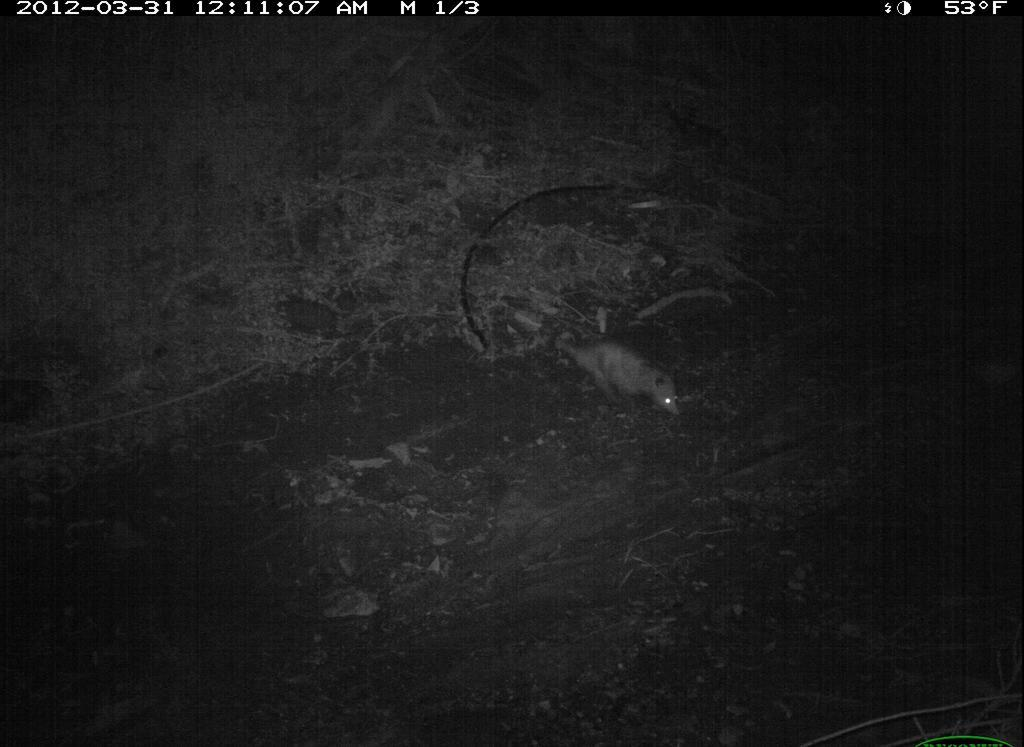opossum: (541, 323, 688, 429)
